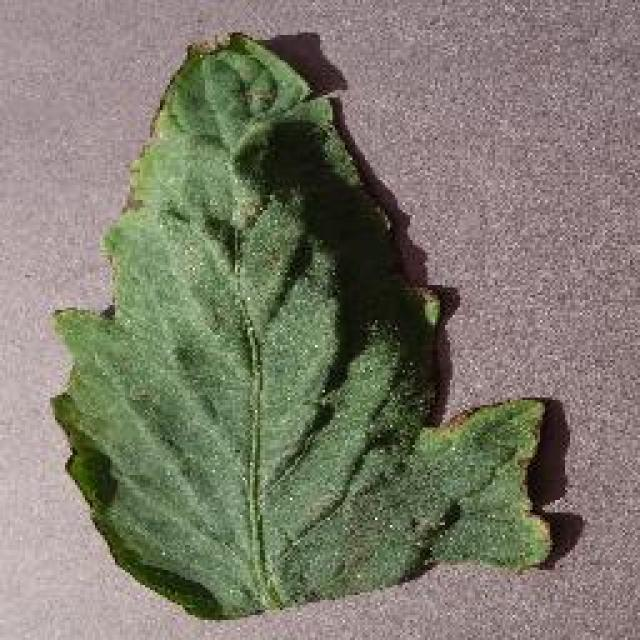Tomato Septoria spot leaf: (49, 29, 556, 619)
